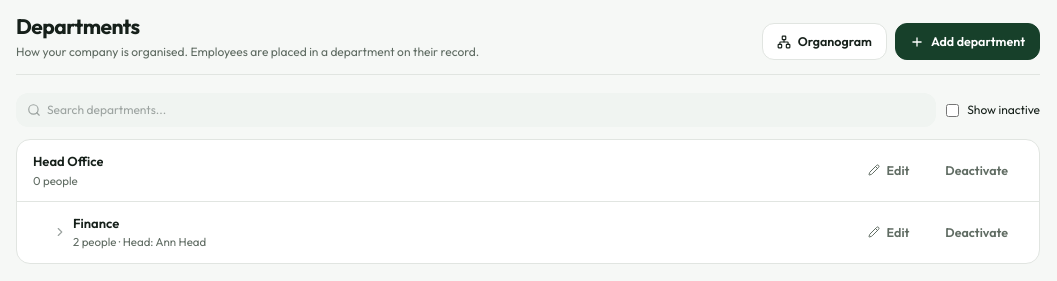
Test: Departments page › searches, keeping the path to a match
Step 1. Type "fin" into the field labelled "Search departments" → (476, 110), box 16,93 -> 936,127
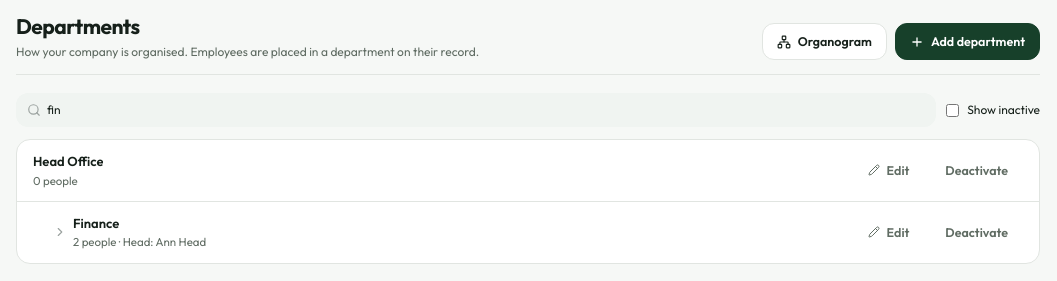
Expected: the text "Finance" is shown, 73,214 -> 119,233
Expected: the text "Head Office" is shown, 33,152 -> 104,172
Step 2. Replace the text in the field named "Search departments" with "zzz" → (476, 110), box 16,93 -> 936,127
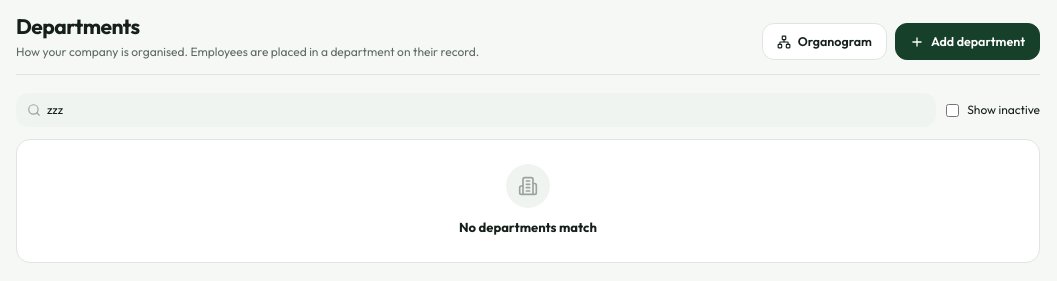
Now the text "No departments match" is shown, box 459,218 -> 597,238
